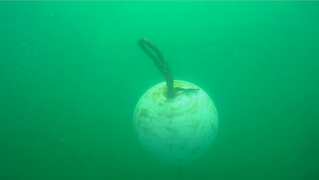buoy: (131, 79, 219, 166)
